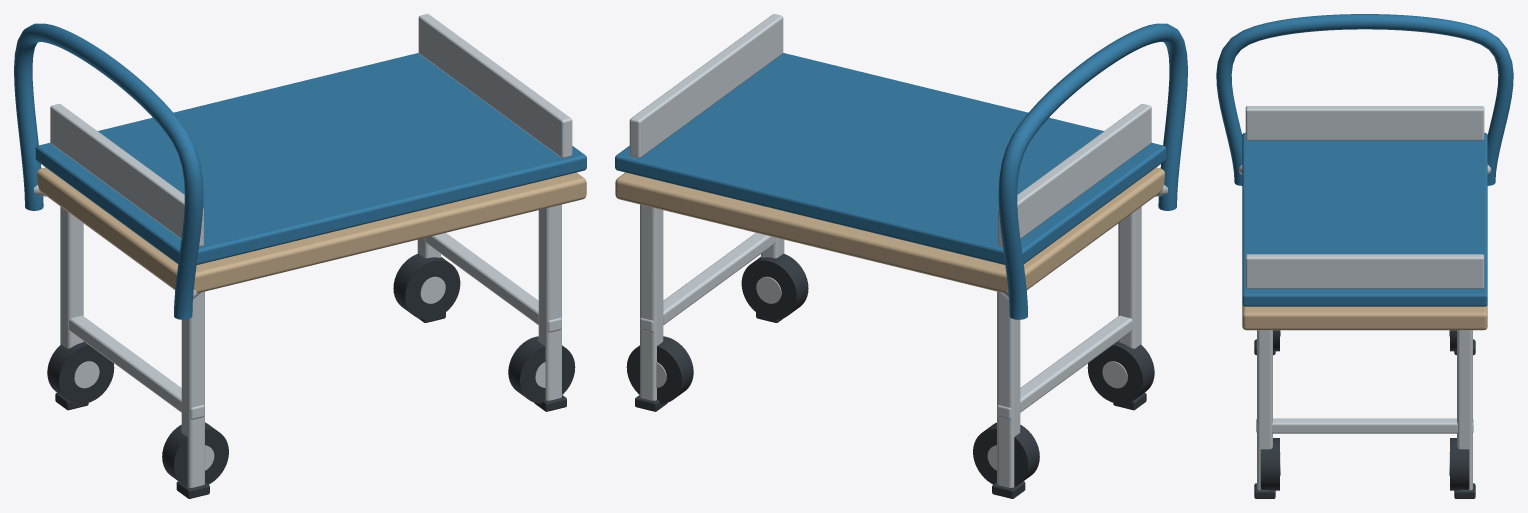
The model's file is curling-club-and-ice-maintenance-stone-transport-cart-b6b02c5b__31267.glb.
3 renders of one model, left to right at view 1: azimuth 30°, elevation 25°; view 2: azimuth 150°, elevation 25°; view 3: azimuth 270°, elevation 25°, orthographic. The views are drawn at different scales.
Visible parts, largest first — view 1: stone-transport-cart; view 2: stone-transport-cart; view 3: stone-transport-cart.
Boxes of the visible parts, box(x1,y1,x2,y2) form: stone-transport-cart: box(14, 14, 586, 498); stone-transport-cart: box(615, 14, 1187, 498); stone-transport-cart: box(1216, 14, 1513, 498).
Size of the model in its own units: 1.12 by 1.03 by 0.8475.
